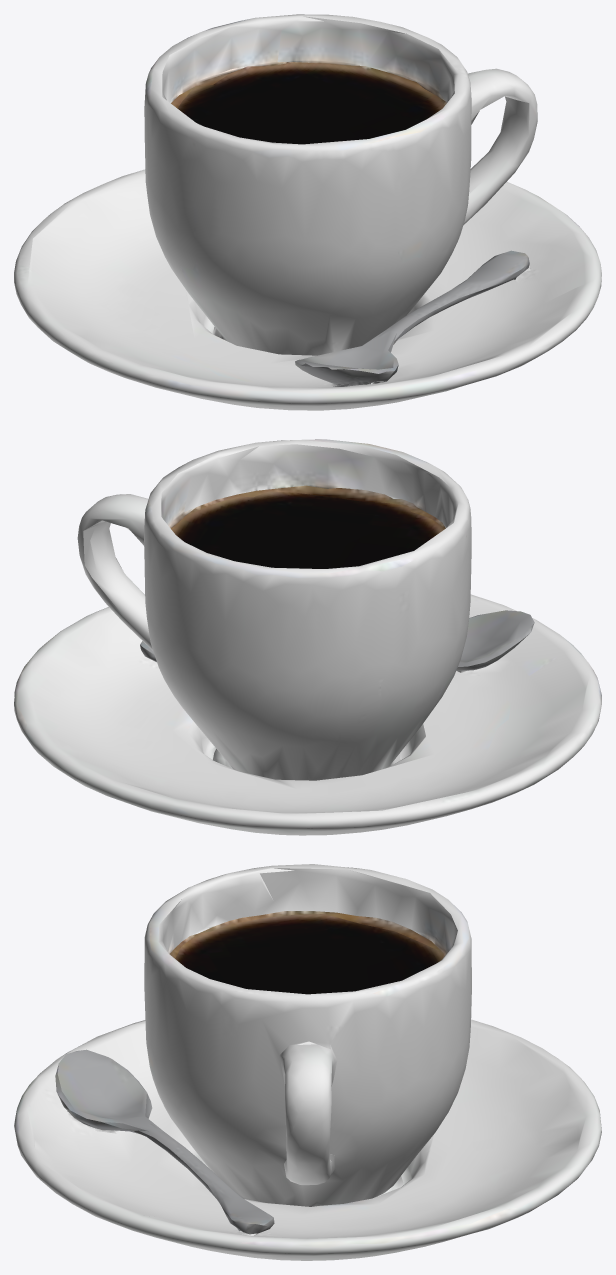
File: cup.glb
3 renders of one model, top to bottom at view 1: azimuth 30°, elevation 25°; view 2: azimuth 150°, elevation 25°; view 3: azimuth 270°, elevation 25°, orthographic.
Parts seen in each view (by area): view 1: cup; view 2: cup; view 3: cup.
Part boxes in pixels (x1,y1,x2,y2): cup: (14, 14, 601, 410); cup: (14, 439, 601, 835); cup: (14, 864, 601, 1260).
Bounding box in the file's own units: 0.1809 × 0.09 × 0.1811.
1 material, 1 textured.
